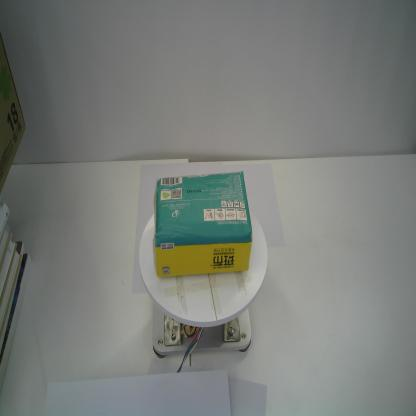Tissue: (152, 169, 254, 278)
